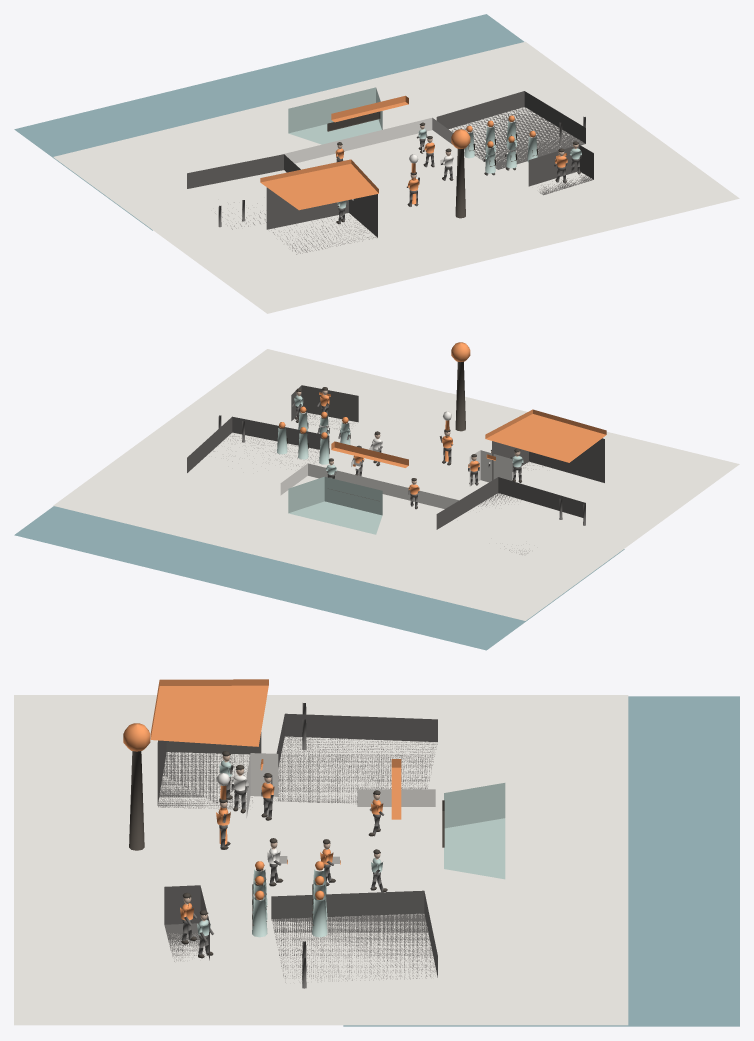
Rendered from environment.glb.
3 views of the same model, one above another, from view 1: azimuth 30°, elevation 25°; view 2: azimuth 150°, elevation 25°; view 3: azimuth 270°, elevation 25° (orthographic). The views are drawn at different scales.
Parts seen in each view (by area): view 1: BeaconCommons_Mesh; view 2: BeaconCommons_Mesh; view 3: BeaconCommons_Mesh.
Boxes of the visible parts, box(x1,y1,x2,y2) form: BeaconCommons_Mesh: box(14, 14, 739, 313); BeaconCommons_Mesh: box(14, 342, 739, 650); BeaconCommons_Mesh: box(14, 679, 739, 1026).
Bounding box in the file's own units: 28 × 5.42 × 26.
